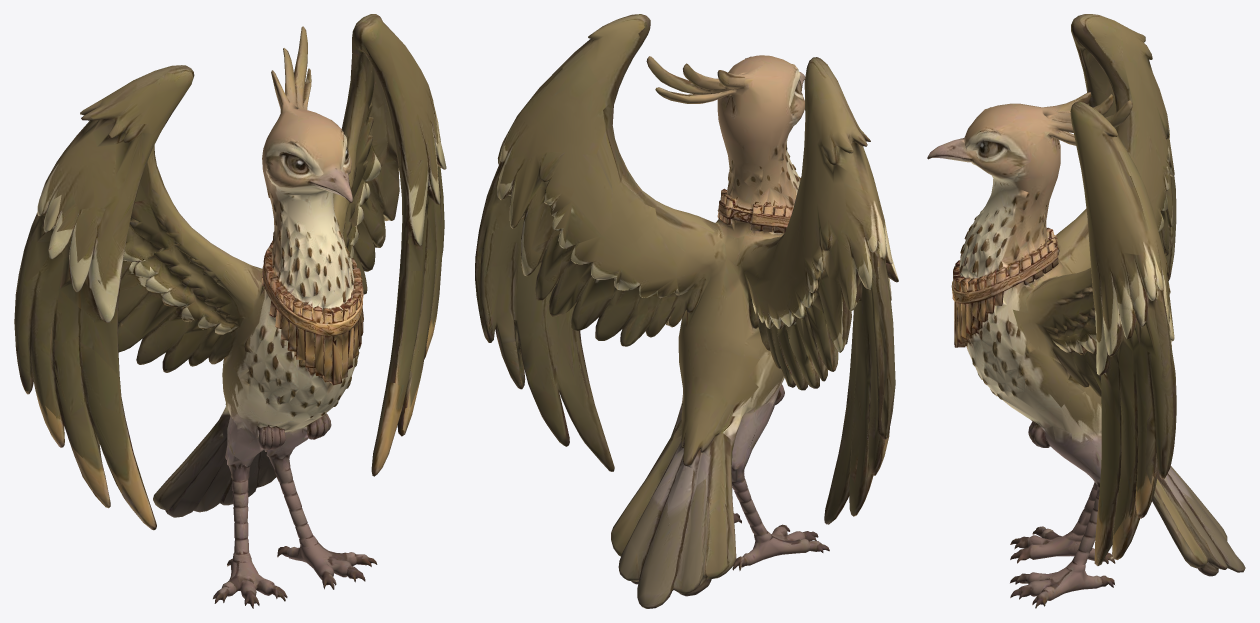
The picture shows the model from 3 angles, left to right: view 1: azimuth 30°, elevation 25°; view 2: azimuth 150°, elevation 25°; view 3: azimuth 270°, elevation 25°; orthographic projection. The views are drawn at different scales.
Parts seen in each view (by area): view 1: Mesh_0; view 2: Mesh_0; view 3: Mesh_0.
Part boxes in pixels (x1,y1,x2,y2): Mesh_0: (14,14,446,608); Mesh_0: (475,14,898,608); Mesh_0: (927,14,1245,608).
Bounding box in the file's own units: 1.61 × 1.91 × 1.07.
Materials: 1 (1 with a texture image).
